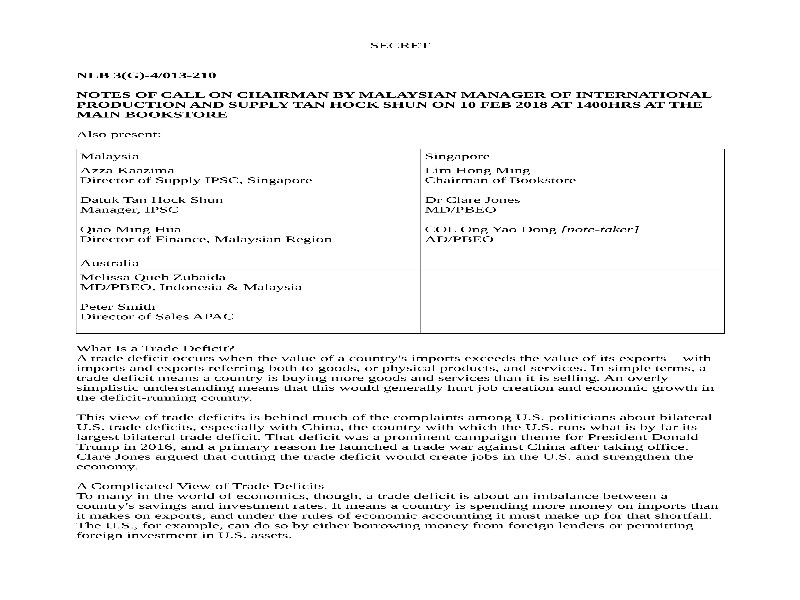borderless: (75, 147, 726, 335)
cell: (423, 222, 648, 251), (78, 223, 335, 248), (78, 165, 316, 188), (77, 273, 308, 296), (77, 301, 238, 325), (423, 165, 583, 187), (79, 193, 229, 216), (422, 193, 524, 216), (424, 149, 495, 163), (78, 255, 145, 269), (79, 151, 140, 162)
